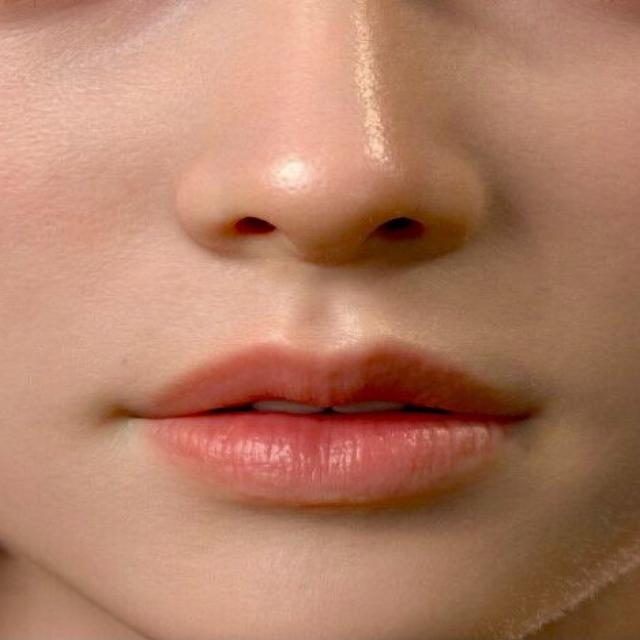oily: (268, 134, 398, 220), (274, 282, 416, 346), (320, 6, 390, 98)
